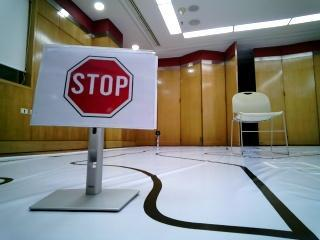stop: (40, 46, 151, 128)
